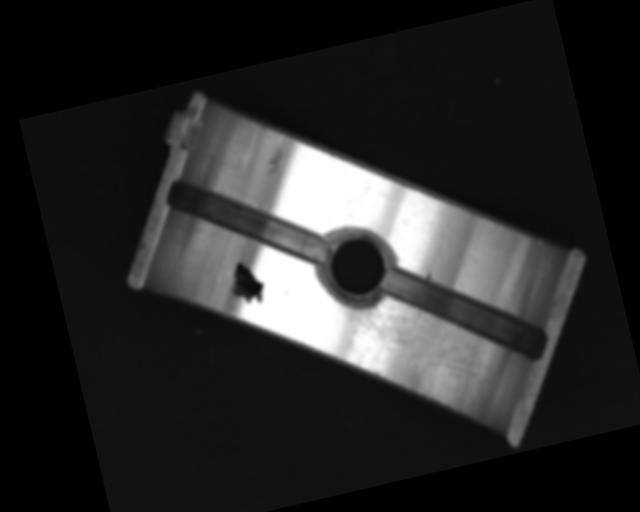blot: (224, 256, 268, 309)
bruise: (258, 145, 290, 180), (422, 268, 433, 282)
gap: (378, 239, 550, 388), (164, 153, 326, 291)
hole: (312, 224, 400, 311)
scratch: (338, 270, 498, 420)
